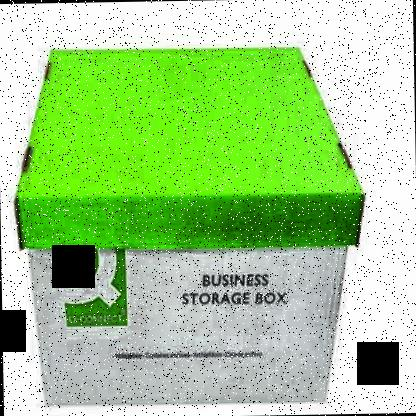no defect parcel: (8, 39, 372, 411)
